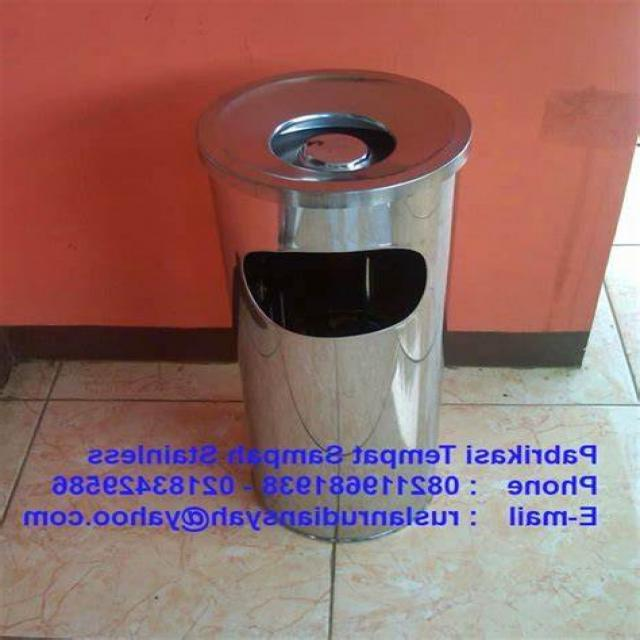garbage container: (89, 58, 502, 438)
